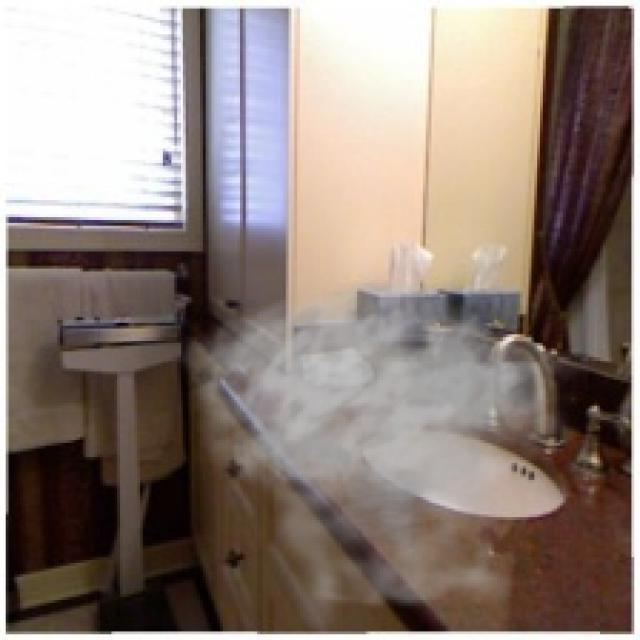Smoke: (177, 280, 592, 637)
